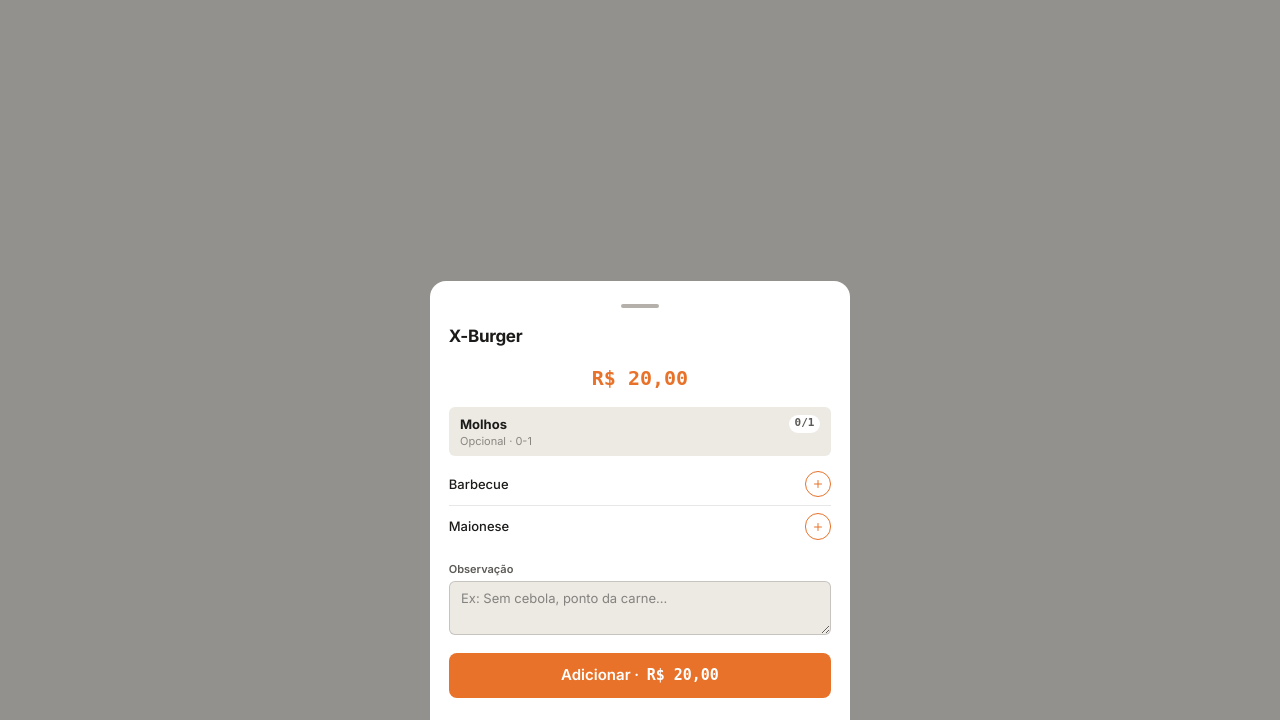
Test: CustomizationModal › respects group maxQty across items
Click the button named "Aumentar" in the row of "Barbecue" at (818, 484), box 805,471 -> 831,498
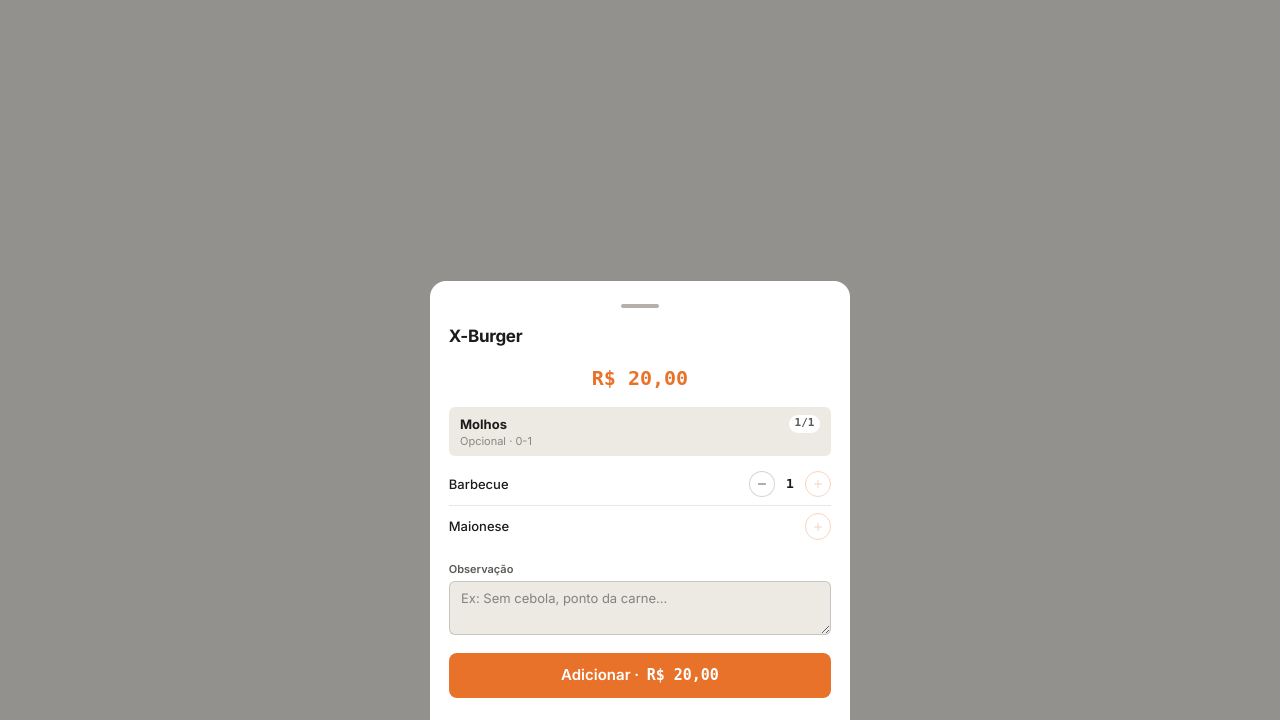
Expected: the text "1/1" is shown, 789,414 -> 820,433
Expected: the button named "Aumentar" in the row of "Maionese" is disabled, 805,514 -> 831,540
